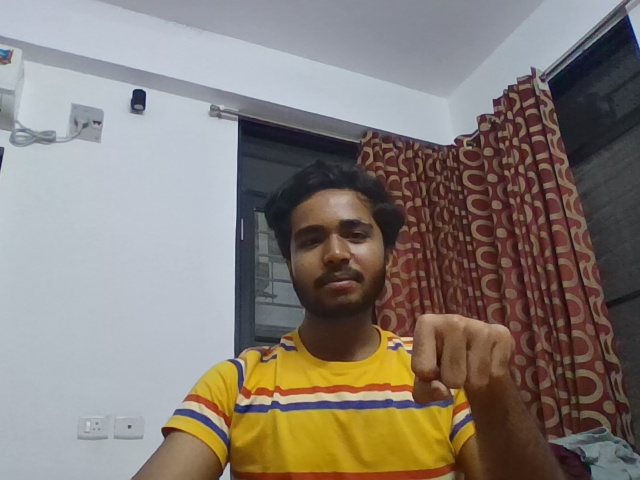Yes: (387, 300, 553, 431)
